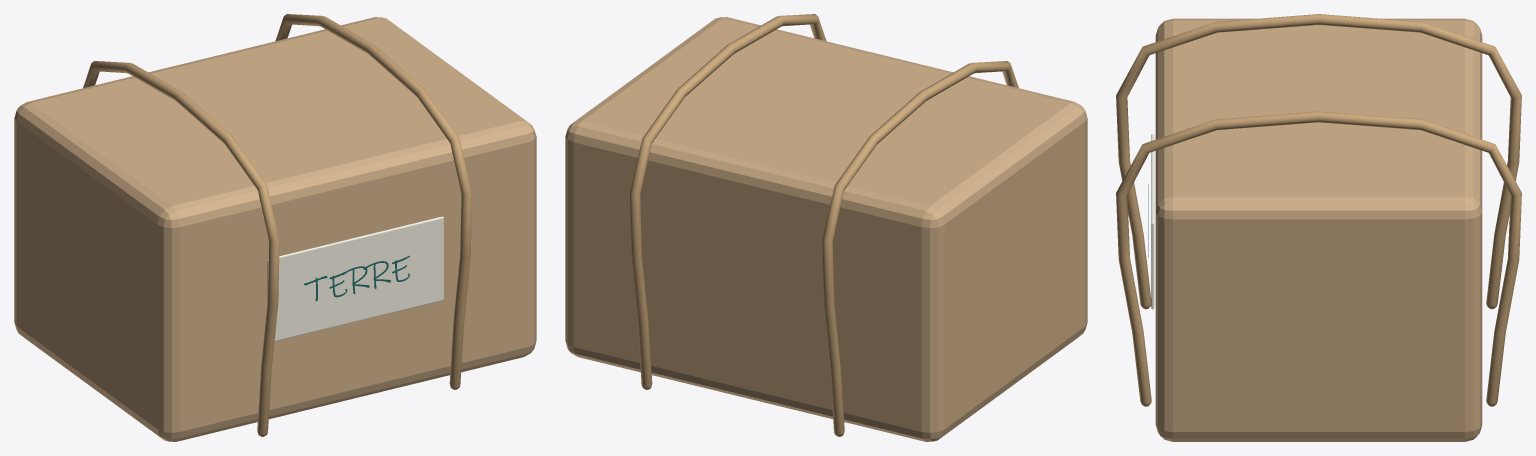
The model's file is paper_parcel.glb.
3 views of the same model, side by side, from view 1: azimuth 30°, elevation 25°; view 2: azimuth 150°, elevation 25°; view 3: azimuth 270°, elevation 25° (orthographic). The views are drawn at different scales.
Parts seen in each view (by area): view 1: Wrapped_box, Paper_label, Tied_string, Tied_string.001, Flat_terre; view 2: Wrapped_box, Tied_string, Tied_string.001; view 3: Wrapped_box, Tied_string.001, Tied_string, Paper_label.
Boxes of the visible parts, box(x1,y1,x2,y2) form: Wrapped_box: box(14, 17, 536, 441); Paper_label: box(267, 216, 443, 341); Tied_string: box(83, 61, 279, 436); Tied_string.001: box(275, 14, 471, 389); Flat_terre: box(304, 255, 409, 301); Wrapped_box: box(565, 17, 1087, 441); Tied_string: box(822, 61, 1018, 436); Tied_string.001: box(630, 14, 826, 389); Wrapped_box: box(1155, 18, 1482, 441); Tied_string.001: box(1116, 111, 1521, 406); Tied_string: box(1116, 14, 1521, 309); Paper_label: box(1151, 134, 1154, 309).
Size of the model in its own units: 0.47 by 0.3382 by 0.4224.
